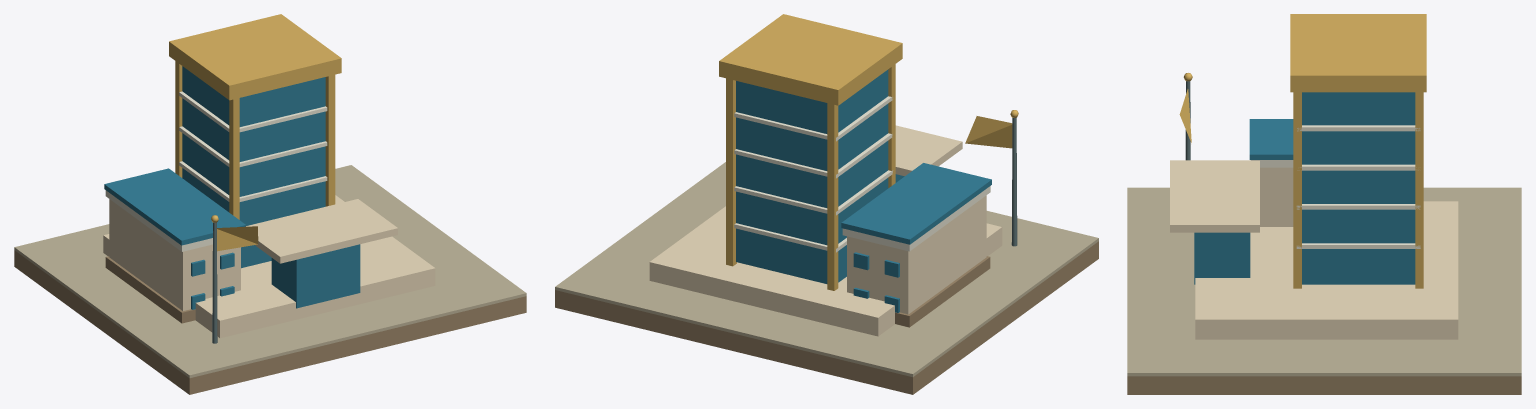
The model's file is club-headquarters-lv2.glb.
3 renders of one model, left to right at view 1: azimuth 30°, elevation 25°; view 2: azimuth 150°, elevation 25°; view 3: azimuth 270°, elevation 25°, orthographic. The views are drawn at different scales.
Visible parts, largest first — view 1: foundation_paving, office_tower_glass, tower_crown_gold, headquarters_plinth_cream, foundation_stoneDark, office_wing_cream, entrance_canopy_cream, office_wing_roof_glass, entrance_lobby_glass, tower_mullions_gold, floor_bands_white, office_wing_stoneDark (+4 smaller); view 2: foundation_paving, office_tower_glass, headquarters_plinth_cream, tower_crown_gold, foundation_stoneDark, office_wing_cream, office_wing_roof_glass, tower_mullions_gold, floor_bands_white, entrance_canopy_cream, office_wing_stoneDark, flags_gold (+3 smaller); view 3: foundation_paving, headquarters_plinth_cream, office_tower_glass, tower_crown_gold, foundation_stoneDark, entrance_canopy_cream, tower_mullions_gold, floor_bands_white, entrance_lobby_glass, office_wing_cream, office_wing_roof_glass, flags_gold.
Boxes of the visible parts, <box> form: foundation_paving: <box>14,165,526,378</box>; office_tower_glass: <box>182,66,325,268</box>; tower_crown_gold: <box>169,14,341,100</box>; headquarters_plinth_cream: <box>103,195,435,338</box>; foundation_stoneDark: <box>14,250,526,394</box>; office_wing_cream: <box>109,199,240,310</box>; entrance_canopy_cream: <box>246,199,397,263</box>; office_wing_roof_glass: <box>104,168,245,245</box>; entrance_lobby_glass: <box>271,244,360,308</box>; tower_mullions_gold: <box>175,61,335,219</box>; floor_bands_white: <box>179,91,327,201</box>; office_wing_stoneDark: <box>105,256,195,323</box>; foundation_paving: <box>555,162,1098,377</box>; office_tower_glass: <box>736,69,888,283</box>; headquarters_plinth_cream: <box>649,206,1002,336</box>; tower_crown_gold: <box>719,14,902,105</box>; foundation_stoneDark: <box>555,241,1098,394</box>; office_wing_cream: <box>847,195,986,314</box>; office_wing_roof_glass: <box>841,163,991,244</box>; tower_mullions_gold: <box>726,64,895,290</box>; floor_bands_white: <box>734,96,893,252</box>; entrance_canopy_cream: <box>895,125,962,176</box>; office_wing_stoneDark: <box>895,256,990,327</box>; flags_gold: <box>965,110,1018,148</box>; foundation_paving: <box>1127,187,1521,376</box>; headquarters_plinth_cream: <box>1195,201,1458,339</box>; office_tower_glass: <box>1302,92,1415,284</box>; tower_crown_gold: <box>1290,14,1426,92</box>; foundation_stoneDark: <box>1127,376,1521,394</box>; entrance_canopy_cream: <box>1170,160,1259,232</box>; tower_mullions_gold: <box>1293,92,1423,288</box>; floor_bands_white: <box>1296,125,1420,248</box>; entrance_lobby_glass: <box>1194,232,1250,284</box>; office_wing_cream: <box>1260,167,1293,226</box>; office_wing_roof_glass: <box>1249,119,1293,159</box>; flags_gold: <box>1179,73,1192,142</box>.
Bounding box in the file's own units: 1 × 0.6486 × 0.9.
